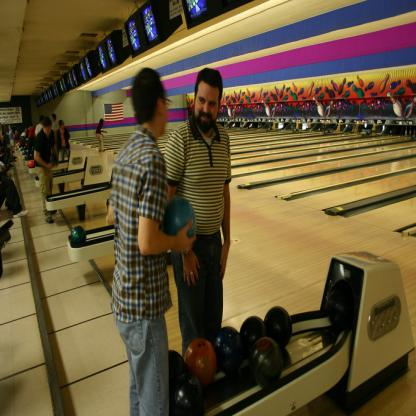Ball: (250, 332, 281, 387), (184, 335, 217, 380), (215, 326, 244, 372), (174, 380, 206, 416), (266, 305, 294, 345), (241, 315, 265, 355), (168, 348, 191, 386), (70, 227, 88, 250), (29, 160, 35, 170)
